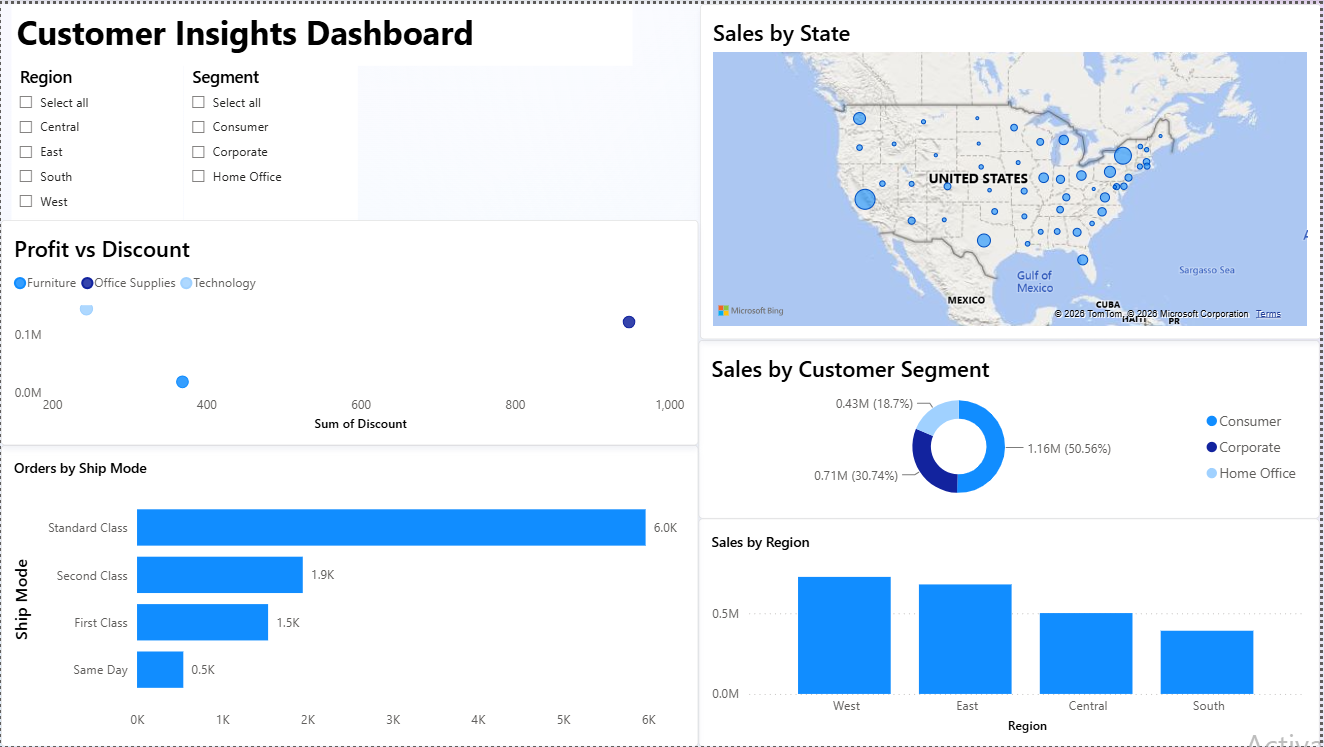

Layout of this report page (visuals, bound fields, positions):
{"tool":"powerbi","page":{"name":"Customer Insights","canvas":[1280,720],"ordinal":2},"visuals":[{"type":"textbox","box":[9.7,0,602.4,59.9],"z":0},{"type":"donutChart","title":"Sales by Customer Segment","fields":{"Category":["Sample - Superstore.Segment"],"Y":["Sum(Sample - Superstore.Sales)"]},"box":[676.8,326,602.6,173.2],"z":1000},{"type":"columnChart","title":"Sales by Region","fields":{"Category":["Sample - Superstore.Region"],"Y":["Sum(Sample - Superstore.Sales)"]},"box":[676.8,499.3,602.6,221.2],"z":2000},{"type":"barChart","title":"Orders by Ship Mode","fields":{"Category":["Sample - Superstore.Ship Mode"],"Y":["CountNonNull(Sample - Superstore.Order ID)"]},"box":[0,427.9,676.8,292.6],"z":3000},{"type":"map","title":"Sales by State","fields":{"Size":["Sum(Sample - Superstore.Sales)"],"Category":["Sample - Superstore.State"]},"box":[678.5,0,602.4,325.5],"z":4000},{"type":"slicer","fields":{"Values":["Sample - Superstore.Region"]},"box":[9.7,59.9,166.8,150.6],"z":5000},{"type":"slicer","fields":{"Values":["Sample - Superstore.Segment"]},"box":[177.6,59.7,168.8,149.9],"z":6000},{"type":"scatterChart","title":"Profit vs Discount","fields":{"X":["Sum(Sample - Superstore.Discount)"],"Category":["Sample - Superstore.Category"],"Series":["Sample - Superstore.Category"],"Y":["Sum(Sample - Superstore.Profit)"],"Size":["Sum(Sample - Superstore.Sales)"]},"box":[0,209.6,676.8,218.3],"z":7000}]}

Visuals, with their boxes in screenshot pixels (x1, y1, x2, y2), scaled from the page's 1280x720 canvas onto the 1324x747 screenshot:
textbox: (10,0,633,62)
"Sales by Customer Segment" donutChart: (700,338,1323,518)
"Sales by Region" columnChart: (700,518,1323,746)
"Orders by Ship Mode" barChart: (0,444,700,746)
"Sales by State" map: (702,0,1323,338)
slicer - Sample - Superstore.Region: (10,62,183,218)
slicer - Sample - Superstore.Segment: (184,62,358,217)
"Profit vs Discount" scatterChart: (0,217,700,444)
